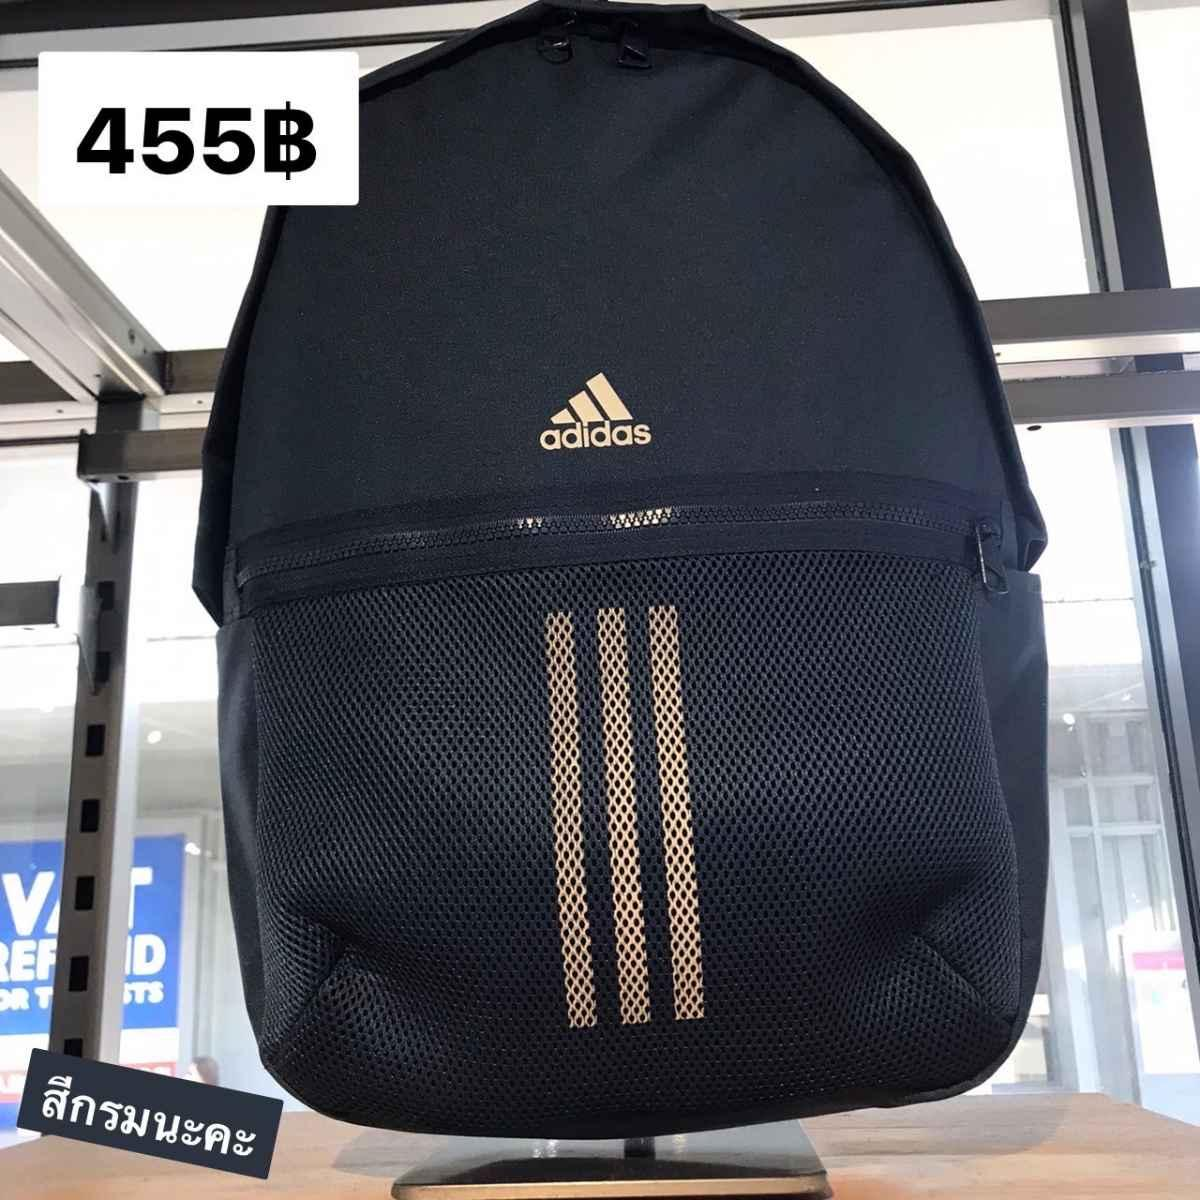backpack: (193, 0, 1052, 1149)
